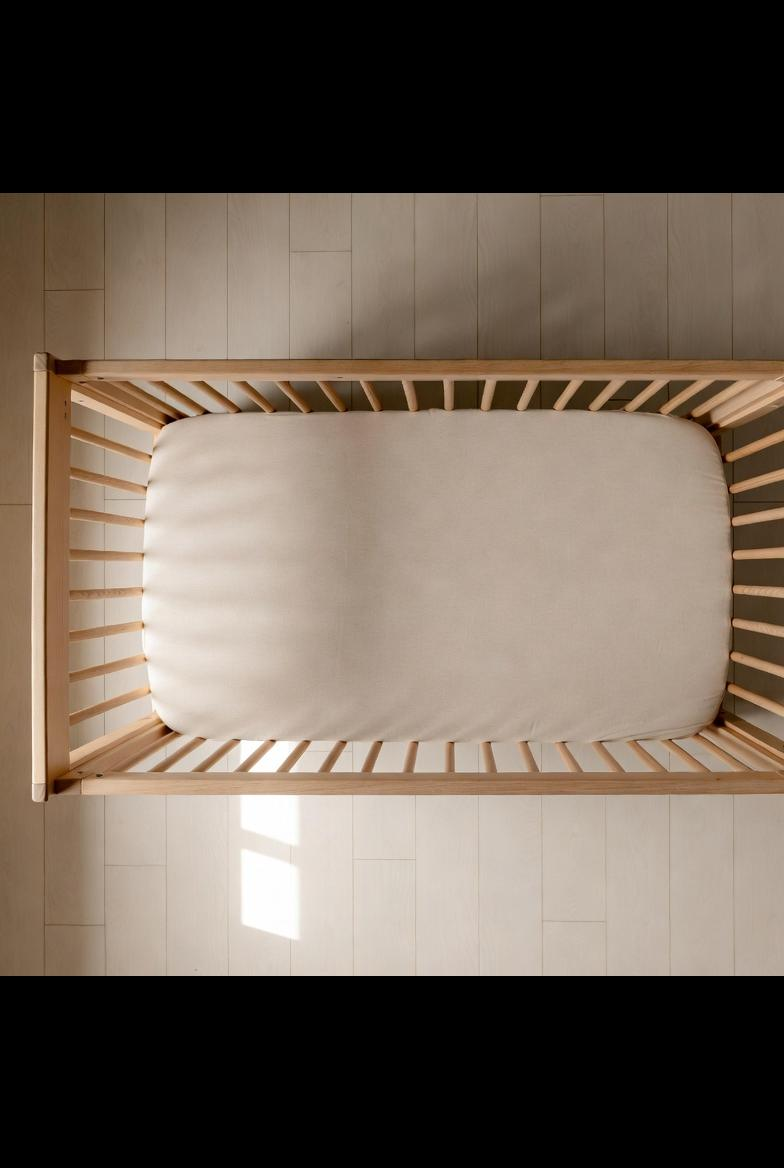crib: (32, 352, 784, 801)
